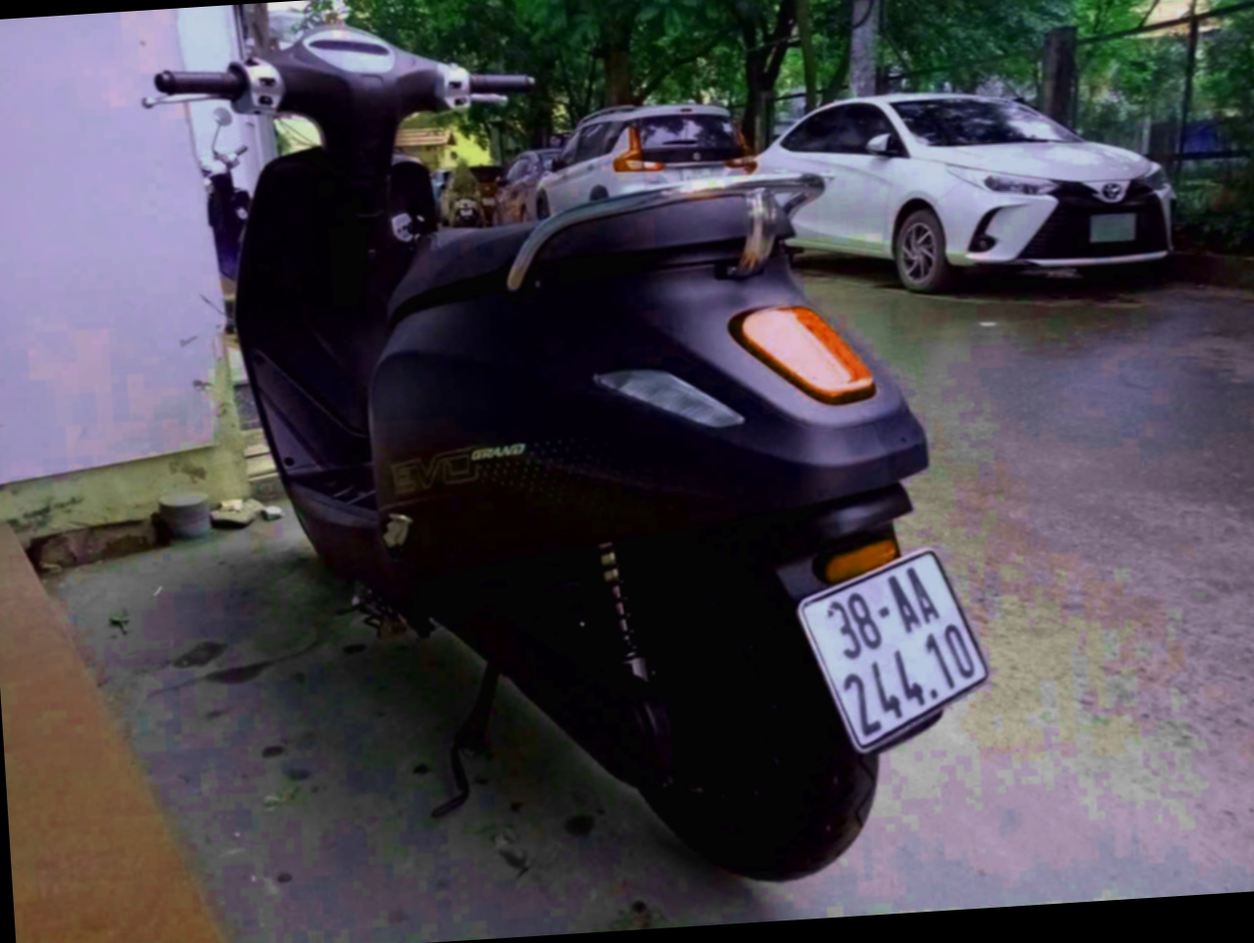Bien-so: (796, 543, 994, 762)
